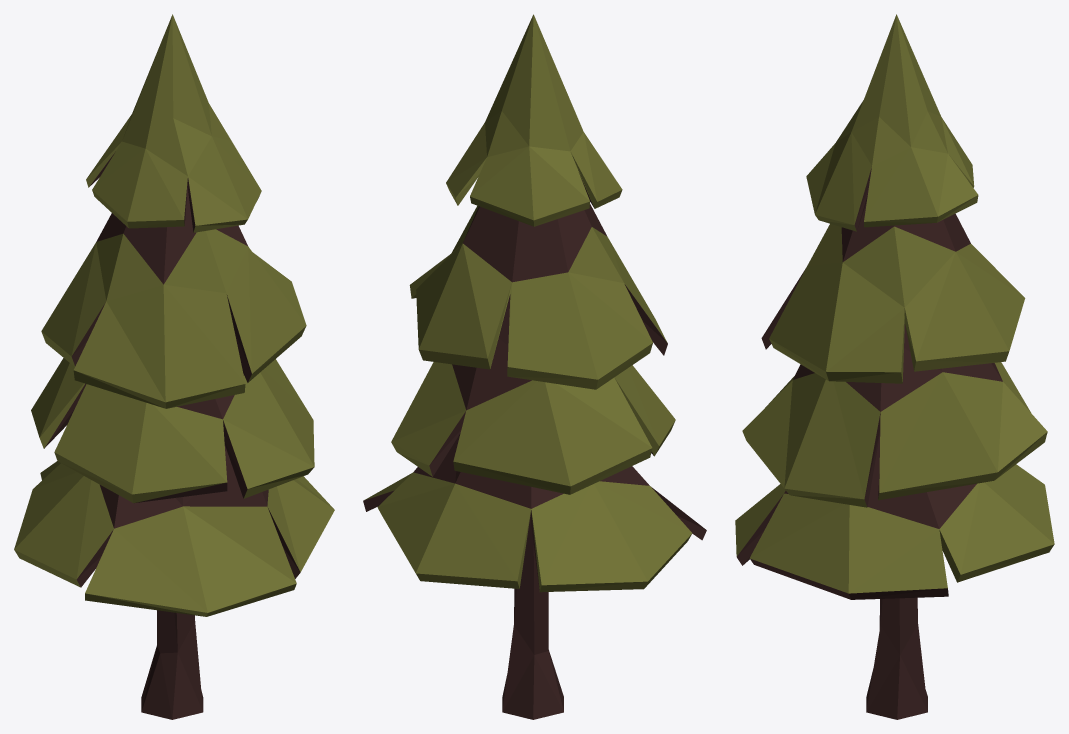
Rendered from arbrevert.fbx.
3 views of the same model, side by side, from view 1: azimuth 30°, elevation 25°; view 2: azimuth 150°, elevation 25°; view 3: azimuth 270°, elevation 25° (orthographic).
Parts seen in each view (by area): view 1: fir_001; view 2: fir_001; view 3: fir_001.
Boxes of the visible parts, x1,y1,x2,y2 form: fir_001: (14,14,334,719); fir_001: (363,14,706,719); fir_001: (735,14,1054,719).
Size of the model in its own units: 263 by 618 by 259.
